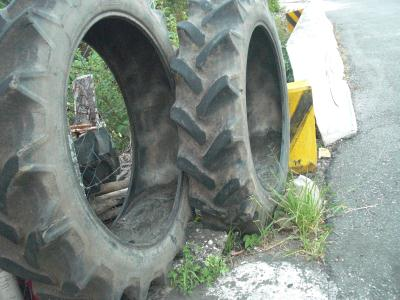tire: (1, 1, 193, 300), (165, 1, 291, 233)
